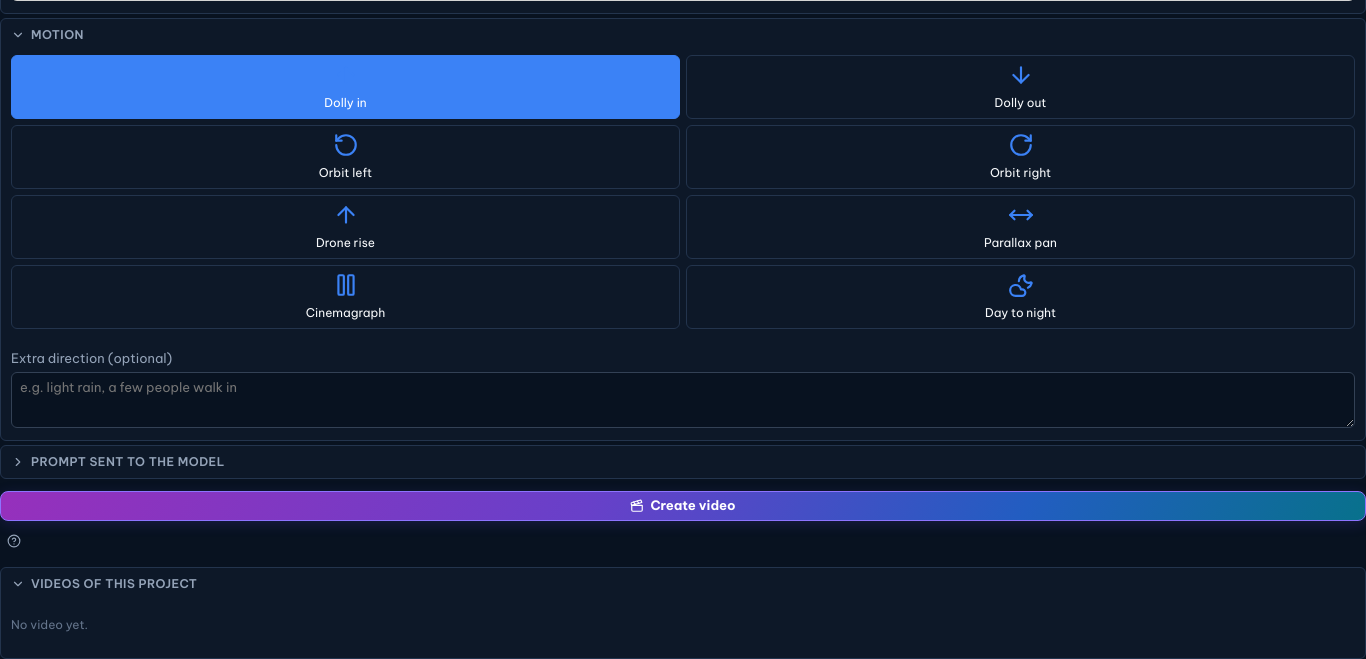
Test: Video module (ADR-043) › cancelling the confirm sends nothing
This screenshot has width=1366, height=659.
(page scrolled)
Click the button with test id "video-create". click: (683, 506)
box: [0, 491, 1365, 521]
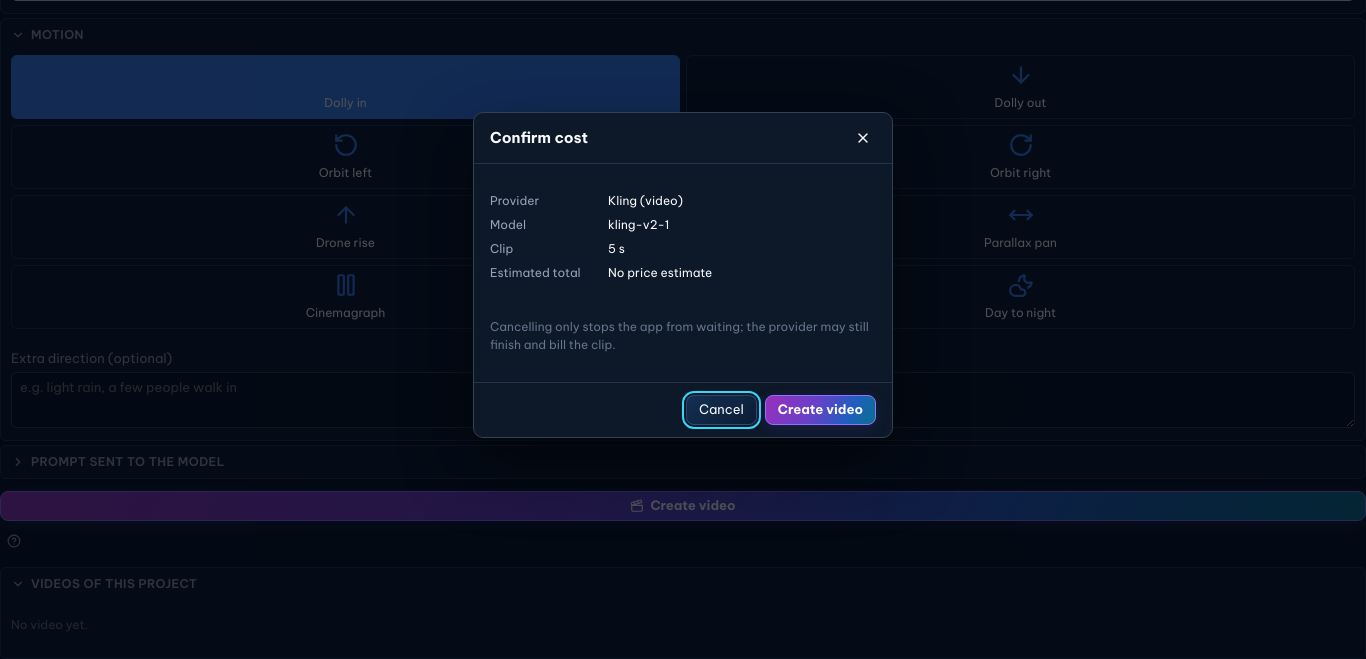
Click the button "Cancel". click: (721, 410)
box: [686, 395, 757, 425]
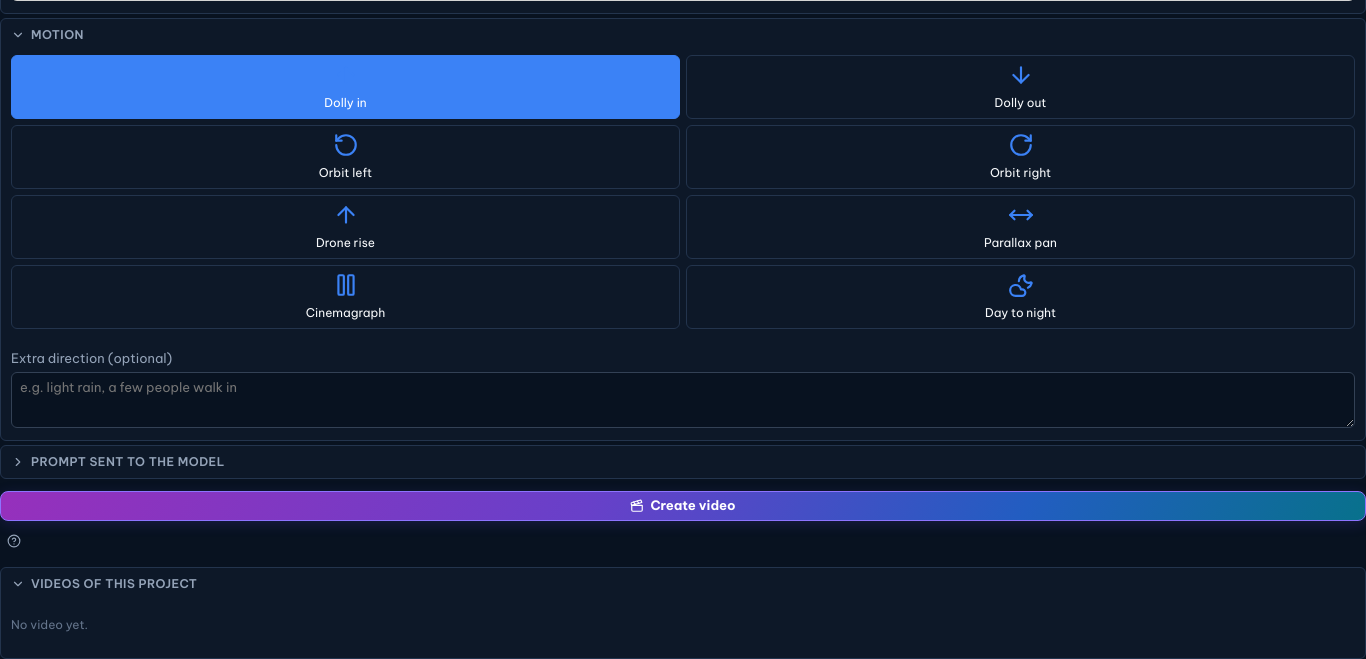
Expected: the dialog is gone
